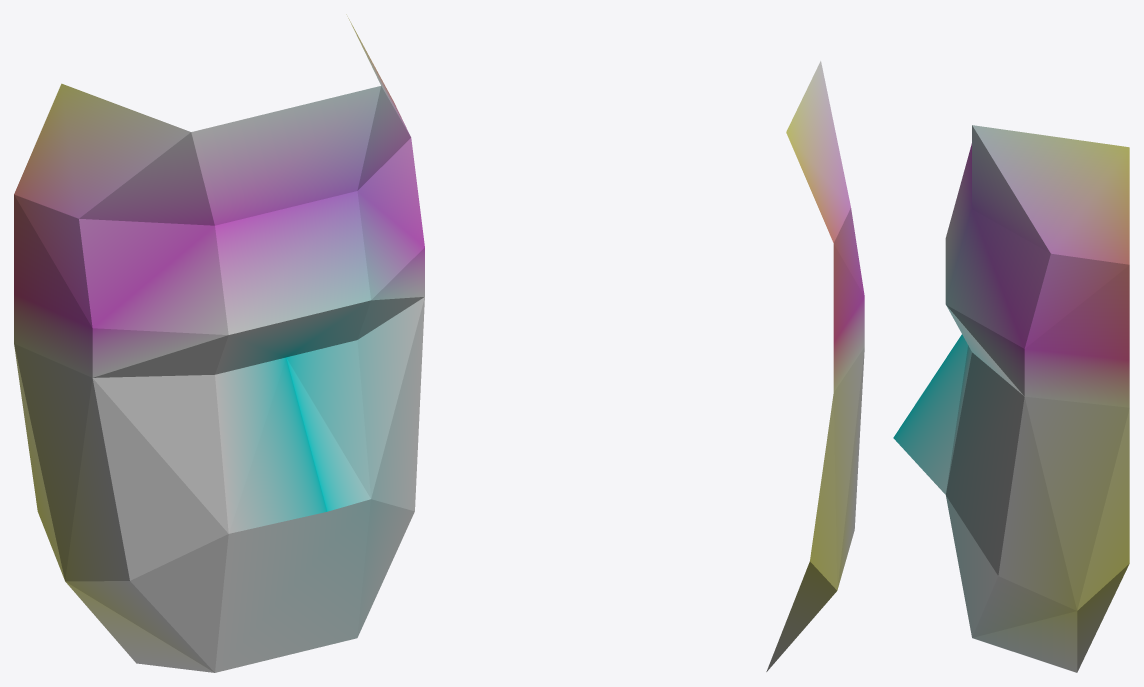
3 renders of one model, left to right at view 1: azimuth 30°, elevation 25°; view 2: azimuth 150°, elevation 25°; view 3: azimuth 270°, elevation 25°, orthographic. The views are drawn at different scales.
Parts seen in each view (by area): view 1: model_13F6; view 2: model_13F6; view 3: model_13F6.
Boxes of the visible parts, x1,y1,x2,y2 form: model_13F6: (14, 14, 424, 672); model_13F6: (766, 61, 864, 671); model_13F6: (893, 125, 1129, 672).
Bounding box in the file's own units: 16 × 23 × 9.
